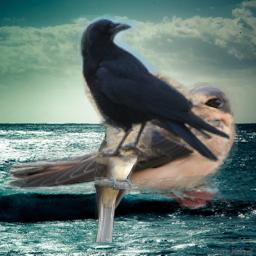Crow: (78, 12, 230, 167)
Cuckoo: (92, 116, 138, 243)
Swallow: (4, 81, 238, 209)
